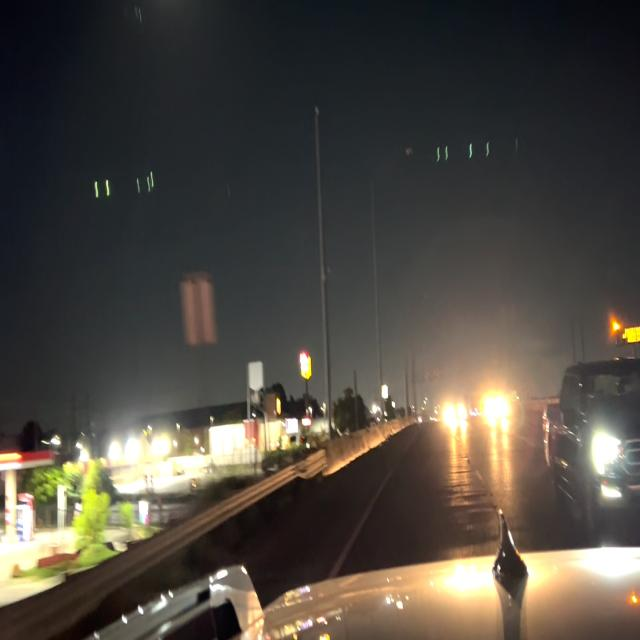back-of-sign: (183, 271, 216, 347)
